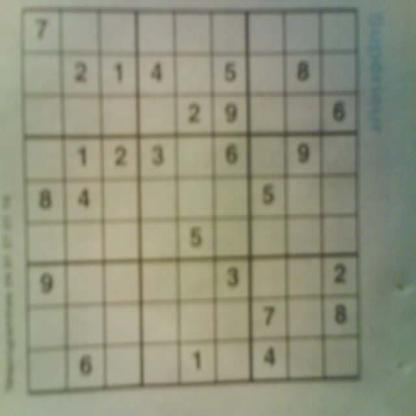sudoku: (17, 3, 367, 402)
